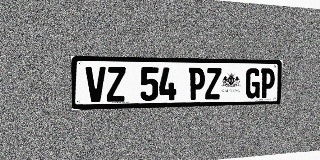4: (159, 67, 177, 101)
5: (140, 67, 159, 101)
G: (245, 68, 261, 98)
P: (188, 68, 205, 100), (260, 68, 275, 98)
V: (85, 66, 106, 102)
Z: (106, 67, 126, 102), (205, 68, 221, 99)
